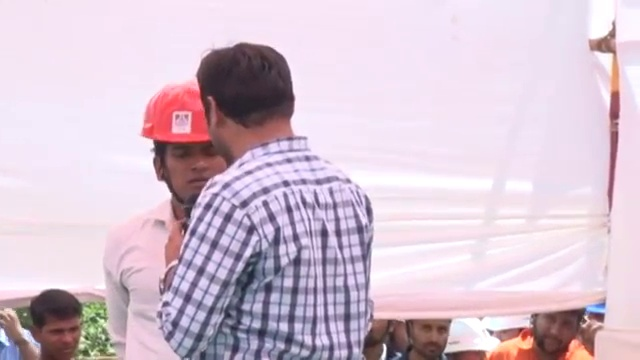helmet: (140, 74, 219, 154), (442, 315, 501, 355)
helmet_off: (194, 50, 304, 143), (26, 290, 87, 359), (533, 309, 589, 346), (406, 320, 454, 360), (360, 317, 400, 360)
helmet_on: (139, 78, 235, 216)
person: (161, 45, 370, 360), (103, 77, 233, 359), (493, 303, 594, 360)
